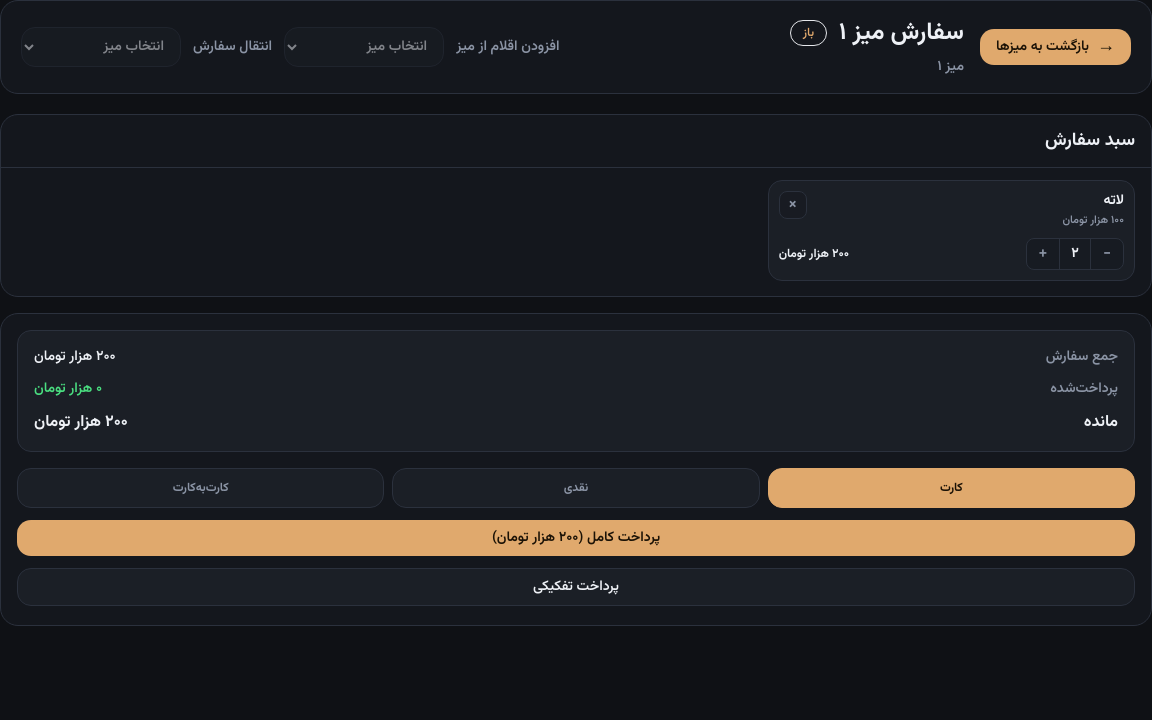
Test case: OrderPanel › updates the displayed line total after incrementing and decrementing quantity
Expected: the text "لاته" is shown, [1104, 190, 1124, 212]
Expected: the text "۲۰۰ هزار تومان" below "۱۰۰ هزار تومان" is shown, [779, 244, 849, 262]
What coordinates should you click on to do the following:
click the button "+"
I would click on:
 (1043, 254)
Its box is [1027, 238, 1059, 270].
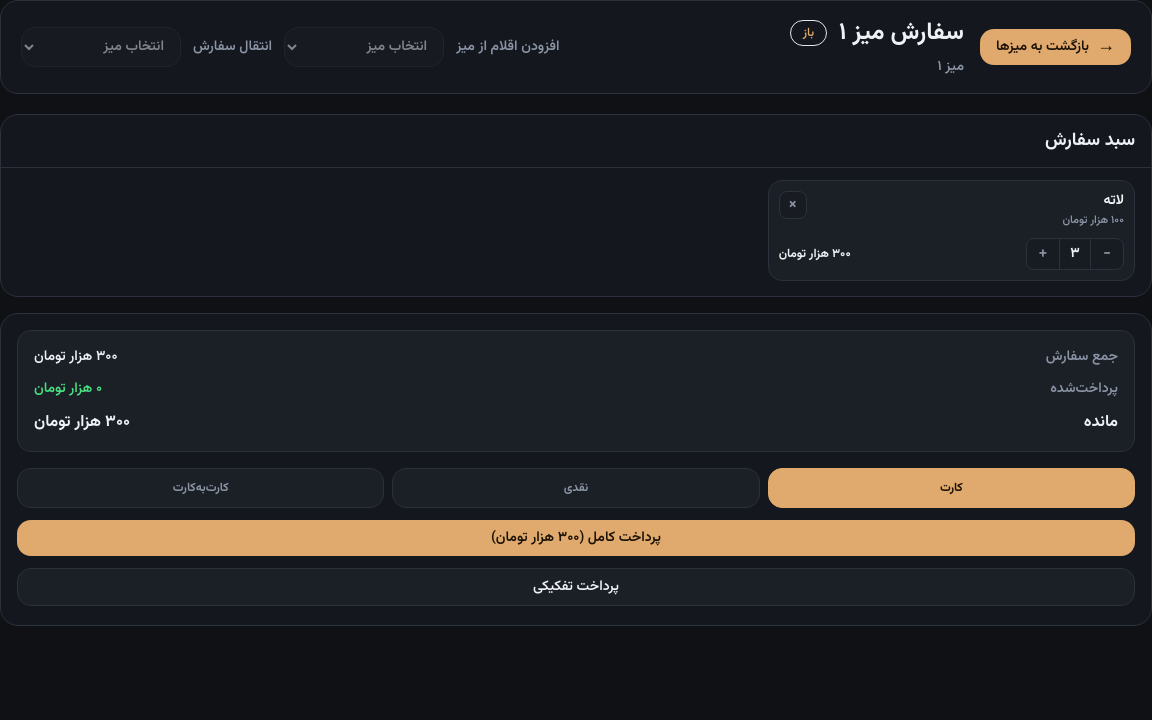
Now the text "۳۰۰ هزار تومان" below "۱۰۰ هزار تومان" is shown, box [779, 244, 851, 262]
What coordinates should you click on to do the following:
click the button "−"
I would click on:
 (1107, 254)
Its box is [1091, 238, 1123, 270].
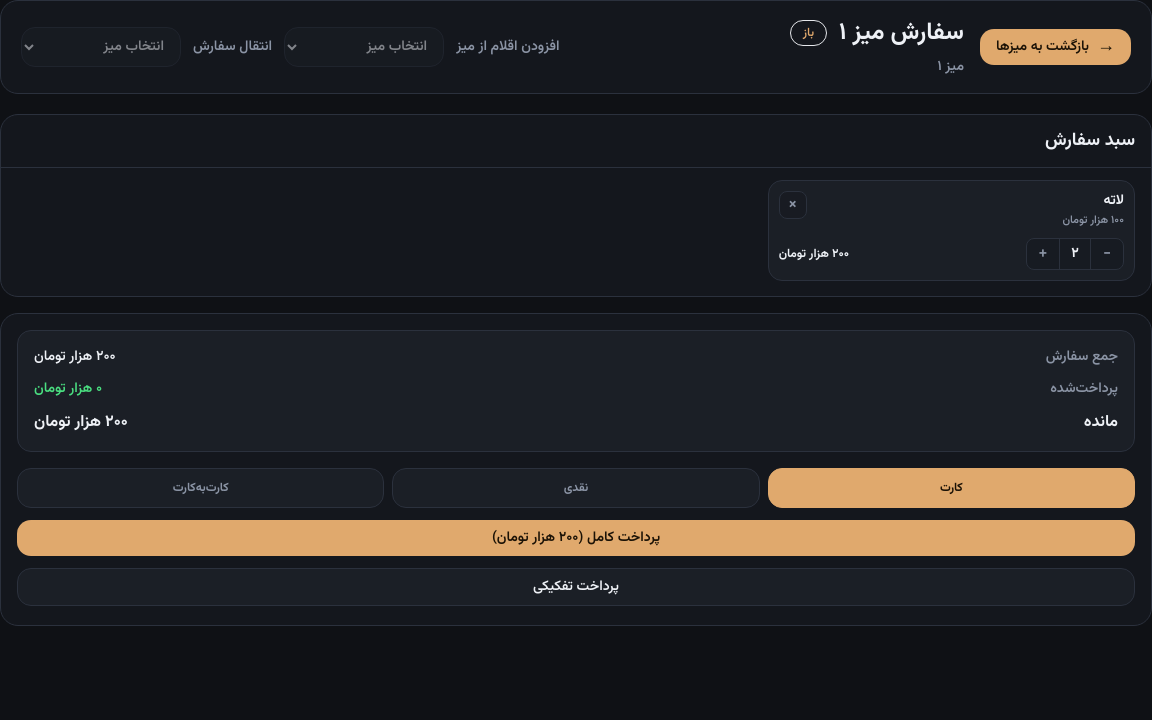
Now the text "۲۰۰ هزار تومان" below "۱۰۰ هزار تومان" is shown, box [779, 244, 849, 262]
